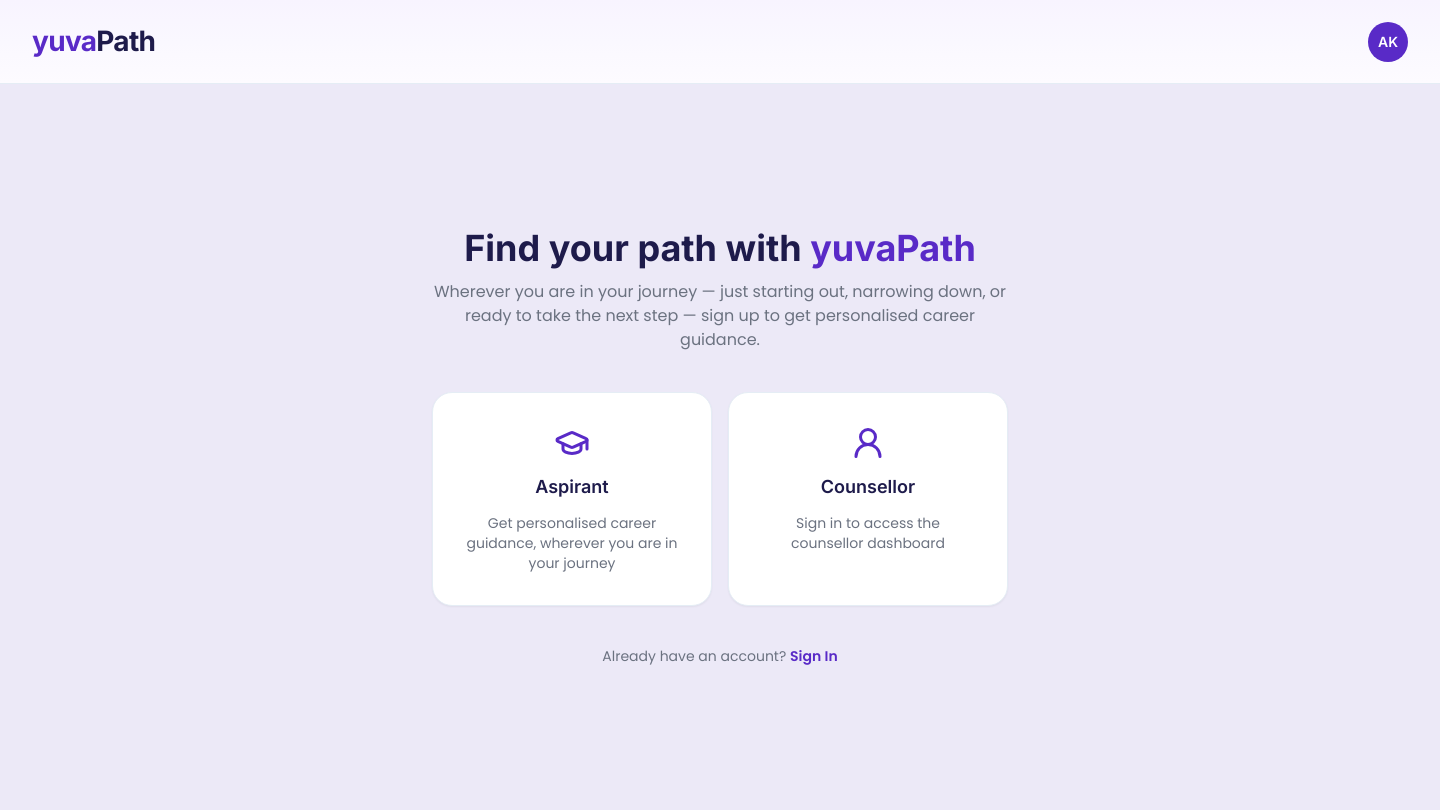
Test: AppHeader account menu — hover, pin, red sign out › closes shortly after the pointer leaves when it was only hovered, not clicked
The width and height of the screenshot is (1440, 810).
Hover over the button with aria-label "Account menu" at (1388, 42), box left=1368, top=22, right=1408, bottom=62
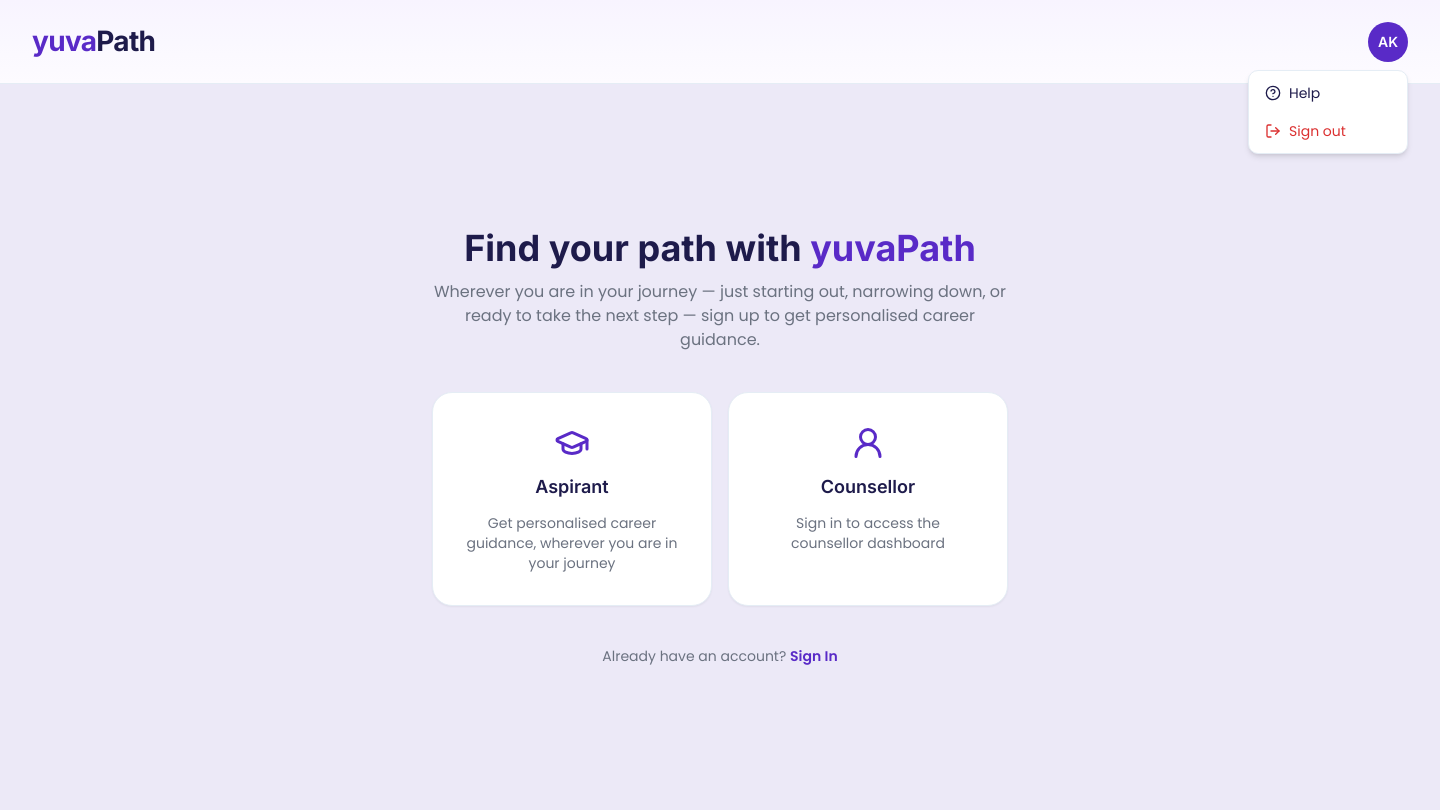
Now the menu item "Sign out" is shown, box left=1253, top=112, right=1403, bottom=148
Move the pointer off the button with aria-label "Account menu", box left=1368, top=22, right=1408, bottom=62
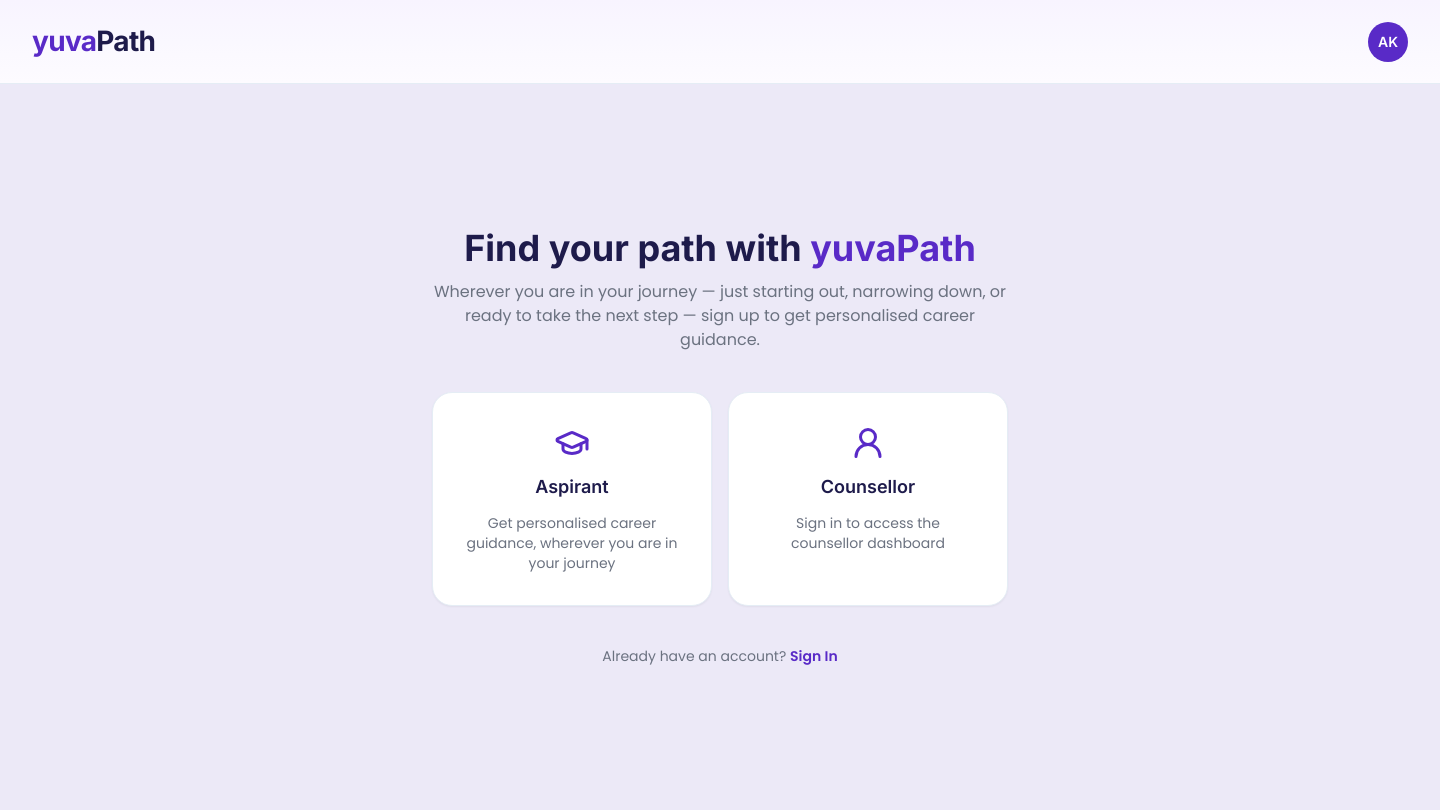
Now the menu item "Sign out" is gone
